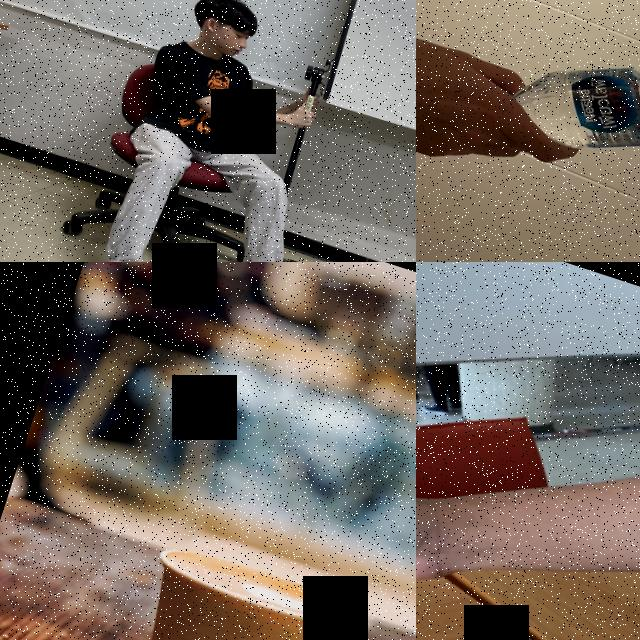bottle: (487, 0, 640, 234)
cup: (98, 536, 378, 640)
